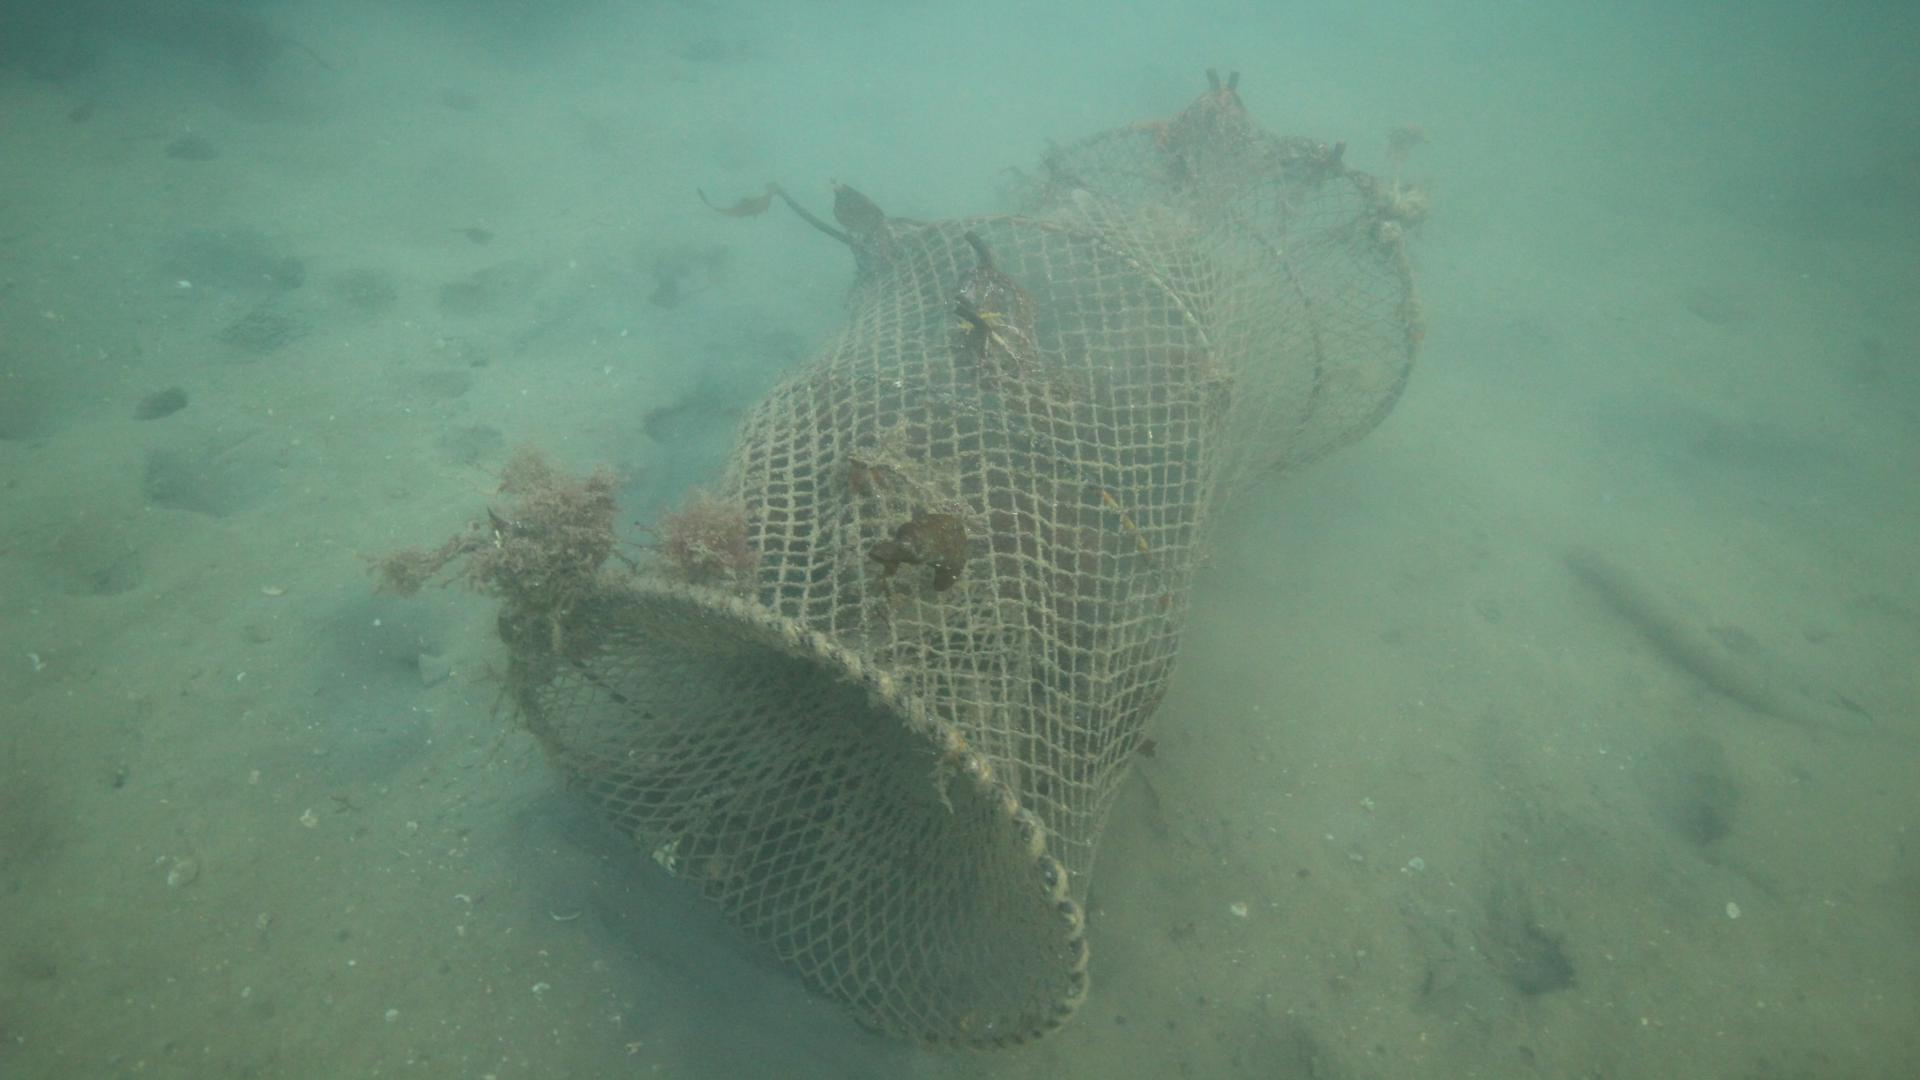spring fish trap: (514, 123, 1419, 1048)
